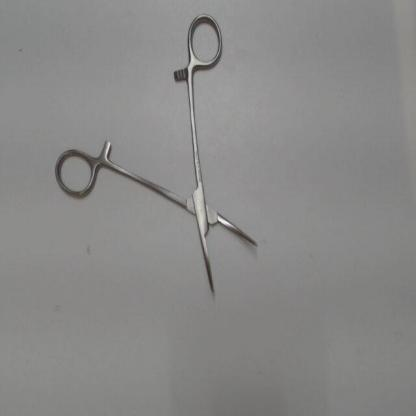Crile Artery Forceps: (52, 7, 265, 305)
